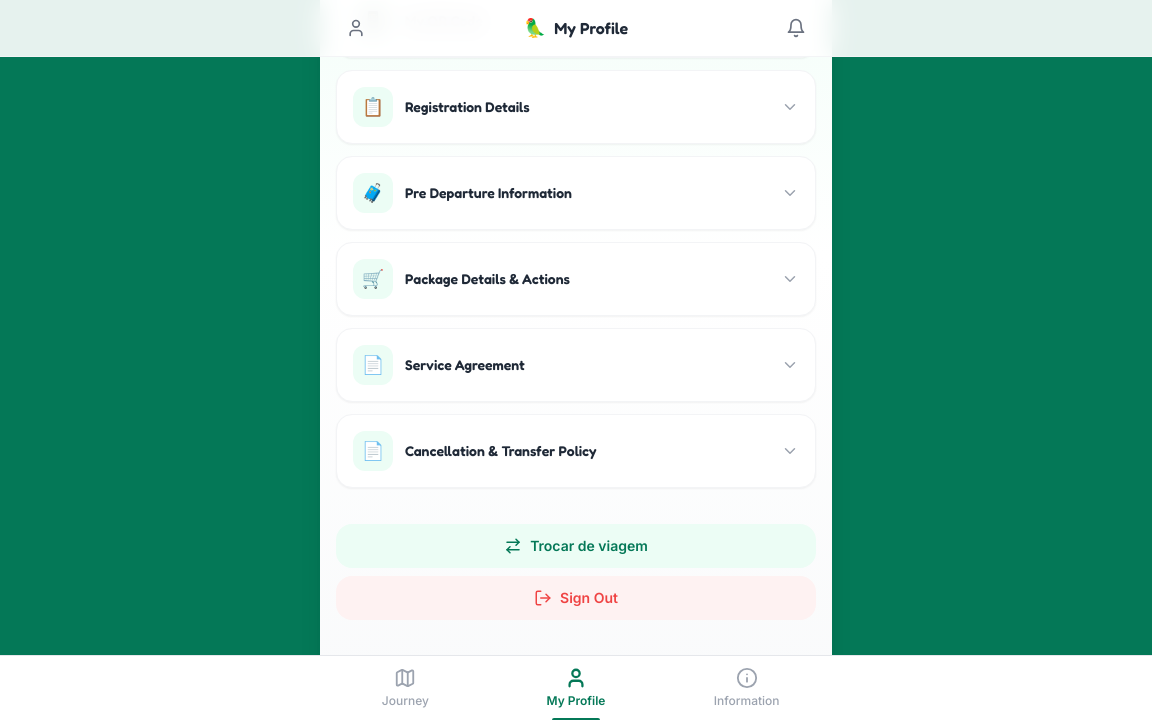
ProfileScreen › offers Trocar de viagem, refreshes memberships fresh, and opens the selector without OTP
(page scrolled)
Click the button "Trocar de viagem". click: click(576, 546)
box: [336,524,816,568]
(page scrolled)
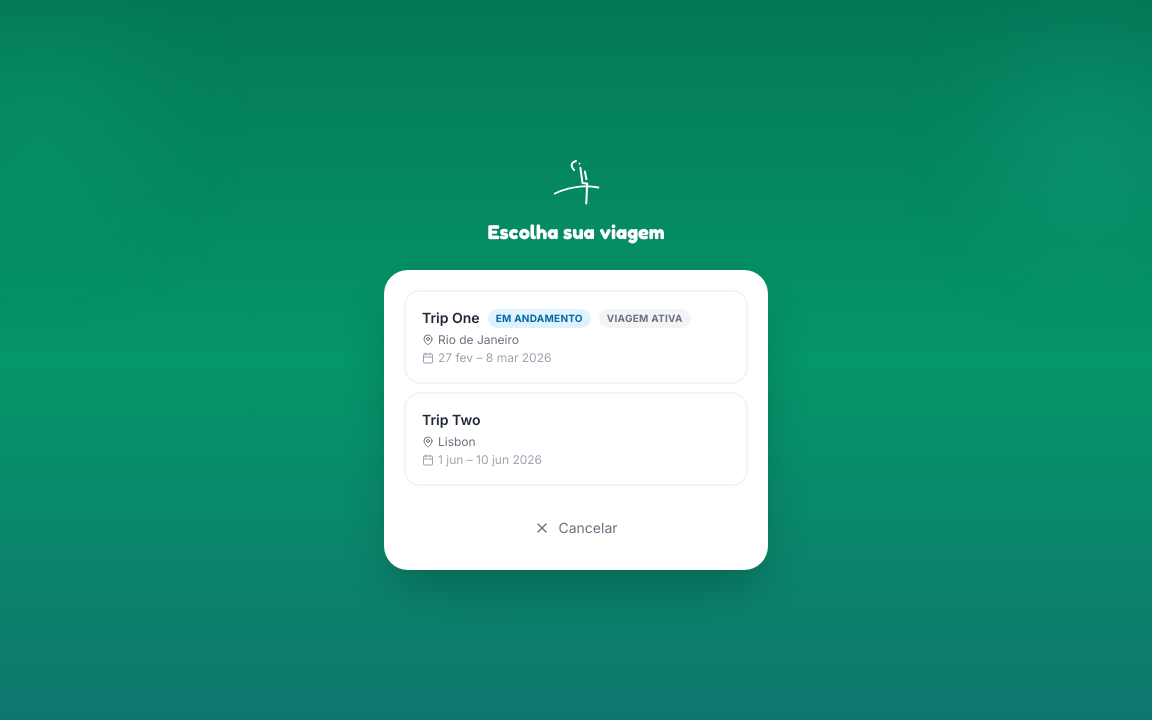
Expected: the heading "Escolha sua viagem" is shown, [487,218,665,246]
Expected: the text "Trip Two" is shown, [422,410,480,430]
Expected: the button "Cancelar" is shown, [404,506,748,550]
